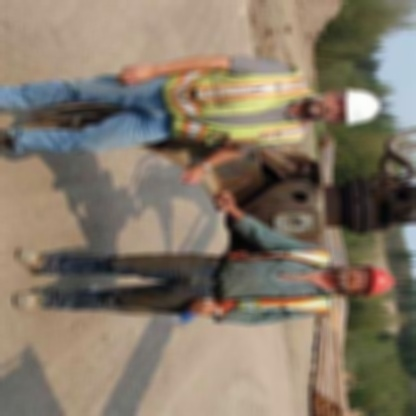red: (362, 259, 398, 298)
vest: (164, 52, 316, 147), (215, 242, 338, 322)
white: (342, 82, 386, 130)
